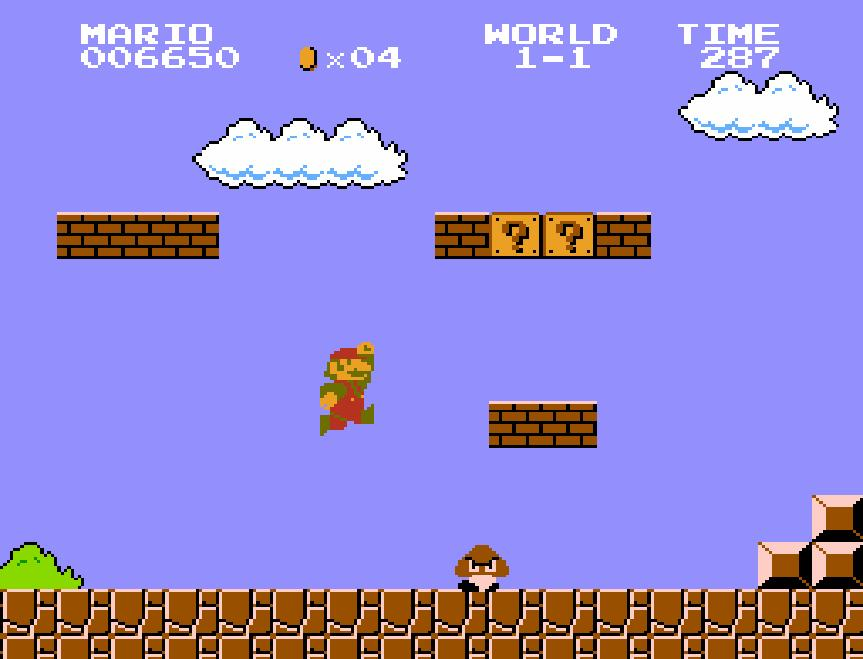big_mario: (318, 340, 376, 438)
